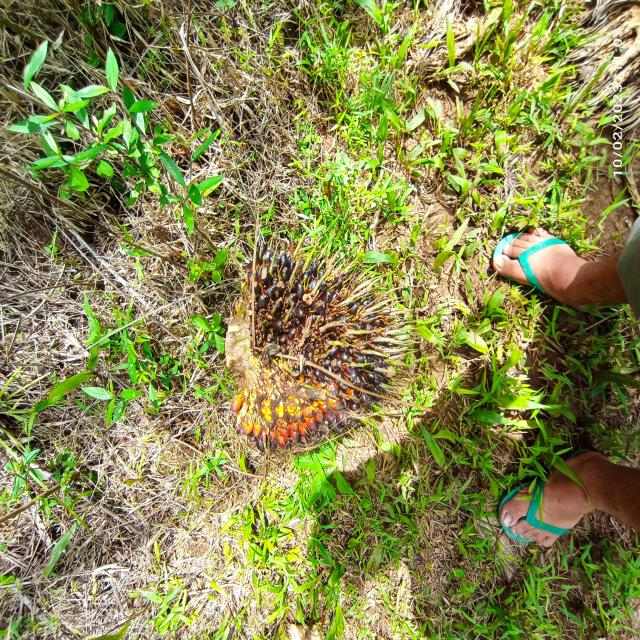fraksi 00: (187, 211, 417, 490)
